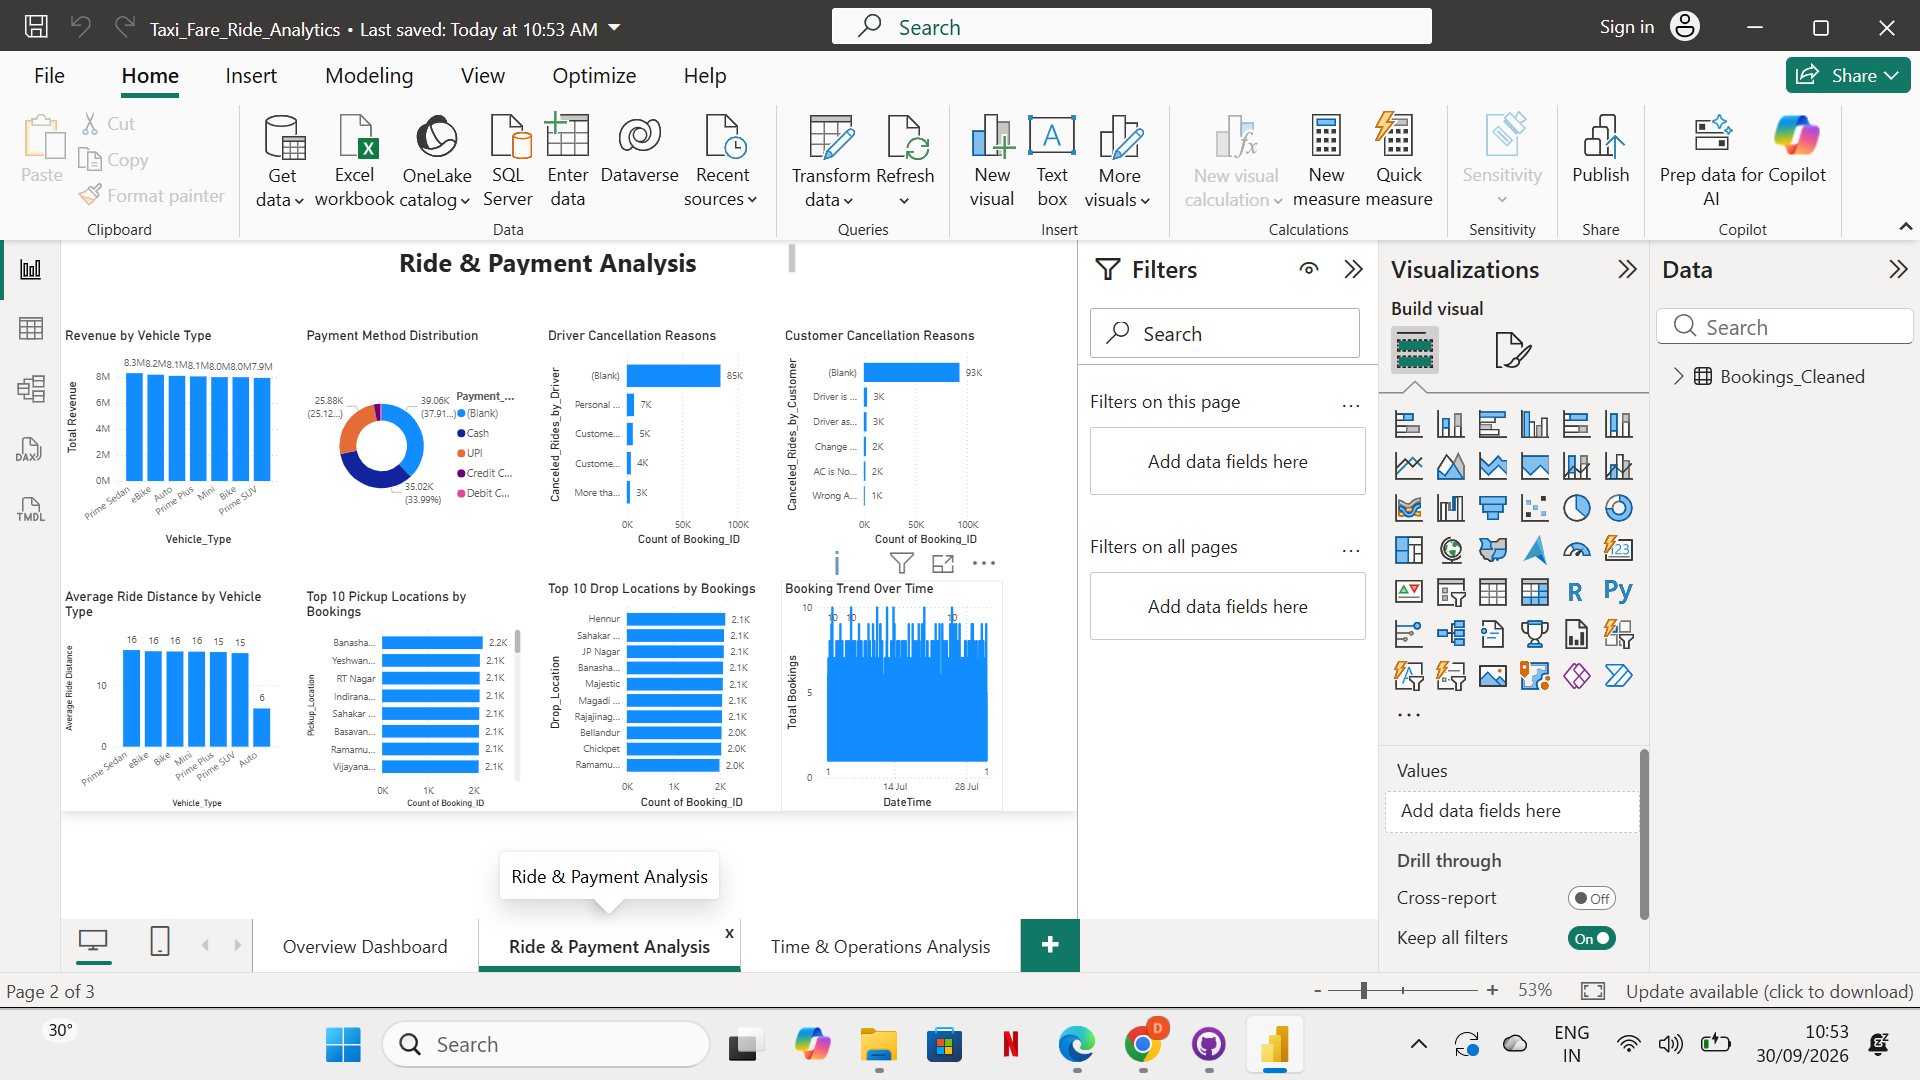

Layout of this report page (visuals, bound fields, positions):
{"tool":"powerbi","page":{"name":"Ride & Payment Analysis","canvas":[1280,720],"ordinal":1},"visuals":[{"type":"clusteredColumnChart","title":"Revenue by Vehicle Type","fields":{"Category":["Bookings_Cleaned.Vehicle_Type"],"Y":["Bookings_Cleaned.Total Revenue"]},"box":[0,109.6,279.7,279.7],"z":0},{"type":"donutChart","title":"Payment Method Distribution","fields":{"Category":["Bookings_Cleaned.Payment_Method"],"Y":["CountNonNull(Bookings_Cleaned.Booking_ID)"]},"box":[304.3,109.6,279.7,279.7],"z":1000},{"type":"clusteredBarChart","title":"Driver Cancellation Reasons","fields":{"Category":["Bookings_Cleaned.Canceled_Rides_by_Driver"],"Y":["CountNonNull(Bookings_Cleaned.Booking_ID)"]},"box":[608.5,109.6,279.7,279.7],"z":2000},{"type":"clusteredBarChart","title":"Customer Cancellation Reasons","fields":{"Category":["Bookings_Cleaned.Canceled_Rides_by_Customer"],"Y":["CountNonNull(Bookings_Cleaned.Booking_ID)"]},"box":[907.1,109.6,279.7,279.7],"z":3000},{"type":"clusteredColumnChart","title":"Average Ride Distance by Vehicle Type","fields":{"Category":["Bookings_Cleaned.Vehicle_Type"],"Y":["Bookings_Cleaned.Average Ride Distance"]},"box":[0,438.4,279.7,281.6],"z":4000},{"type":"clusteredBarChart","title":"Top 10 Pickup Locations by Bookings","fields":{"Category":["Bookings_Cleaned.Pickup_Location"],"Y":["CountNonNull(Bookings_Cleaned.Booking_ID)"]},"box":[304.3,438.4,279.7,281.6],"z":5000},{"type":"clusteredBarChart","title":"Top 10 Drop Locations by Bookings","fields":{"Category":["Bookings_Cleaned.Drop_Location"],"Y":["CountNonNull(Bookings_Cleaned.Booking_ID)"]},"box":[608.5,429,279.7,291],"z":6000},{"type":"lineChart","title":"Booking Trend Over Time","fields":{"Y":["Bookings_Cleaned.Total Bookings"],"Category":["Bookings_Cleaned.DateTime"]},"box":[907.1,429,279.7,291],"z":7000},{"type":"textbox","box":[304.3,0,625.5,49.1],"z":7001}]}

Visuals, with their boxes on the page's 1280x720 design canvas (x1, y1, x2, y2). These are canvas units, not pixel positions in the 1920x1080 screenshot, which may show the page scaled, cropped or inside an application window:
"Revenue by Vehicle Type" clusteredColumnChart: [0, 110, 280, 389]
"Payment Method Distribution" donutChart: [304, 110, 584, 389]
"Driver Cancellation Reasons" clusteredBarChart: [608, 110, 888, 389]
"Customer Cancellation Reasons" clusteredBarChart: [907, 110, 1187, 389]
"Average Ride Distance by Vehicle Type" clusteredColumnChart: [0, 438, 280, 720]
"Top 10 Pickup Locations by Bookings" clusteredBarChart: [304, 438, 584, 720]
"Top 10 Drop Locations by Bookings" clusteredBarChart: [608, 429, 888, 720]
"Booking Trend Over Time" lineChart: [907, 429, 1187, 720]
textbox: [304, 0, 930, 49]
